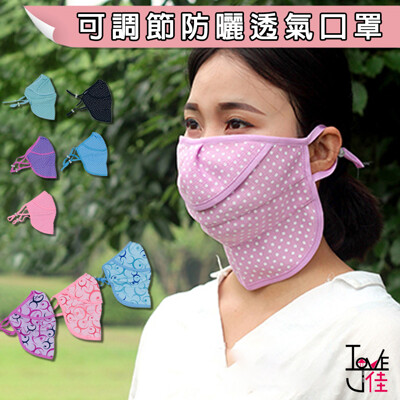Mask: (179, 56, 319, 242)
